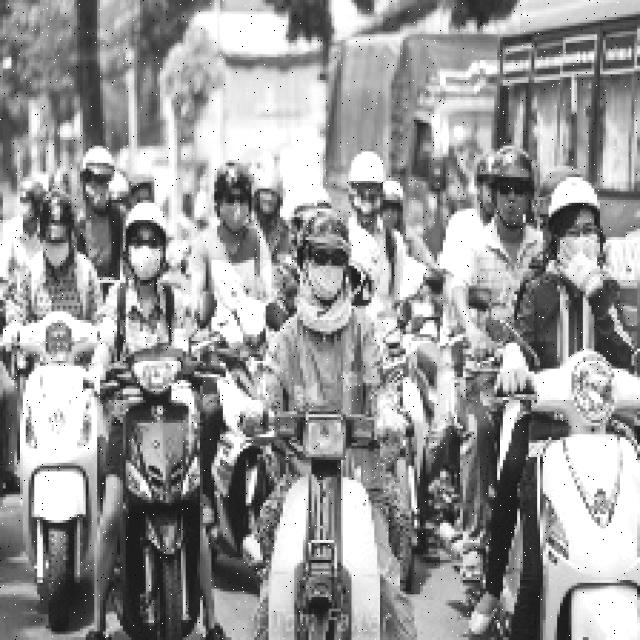Bike: (256, 387, 387, 639), (102, 349, 216, 636), (10, 305, 112, 601), (536, 366, 631, 637)
